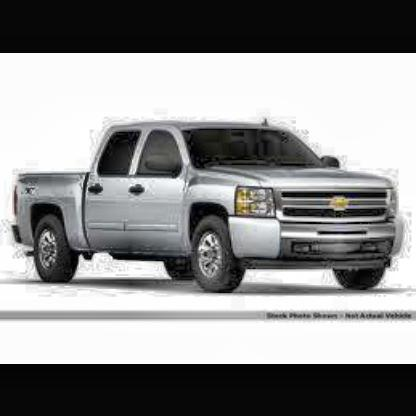Chevrolet Silverado 1500 Hybrid Crew Cab 2012: (16, 122, 409, 297)
